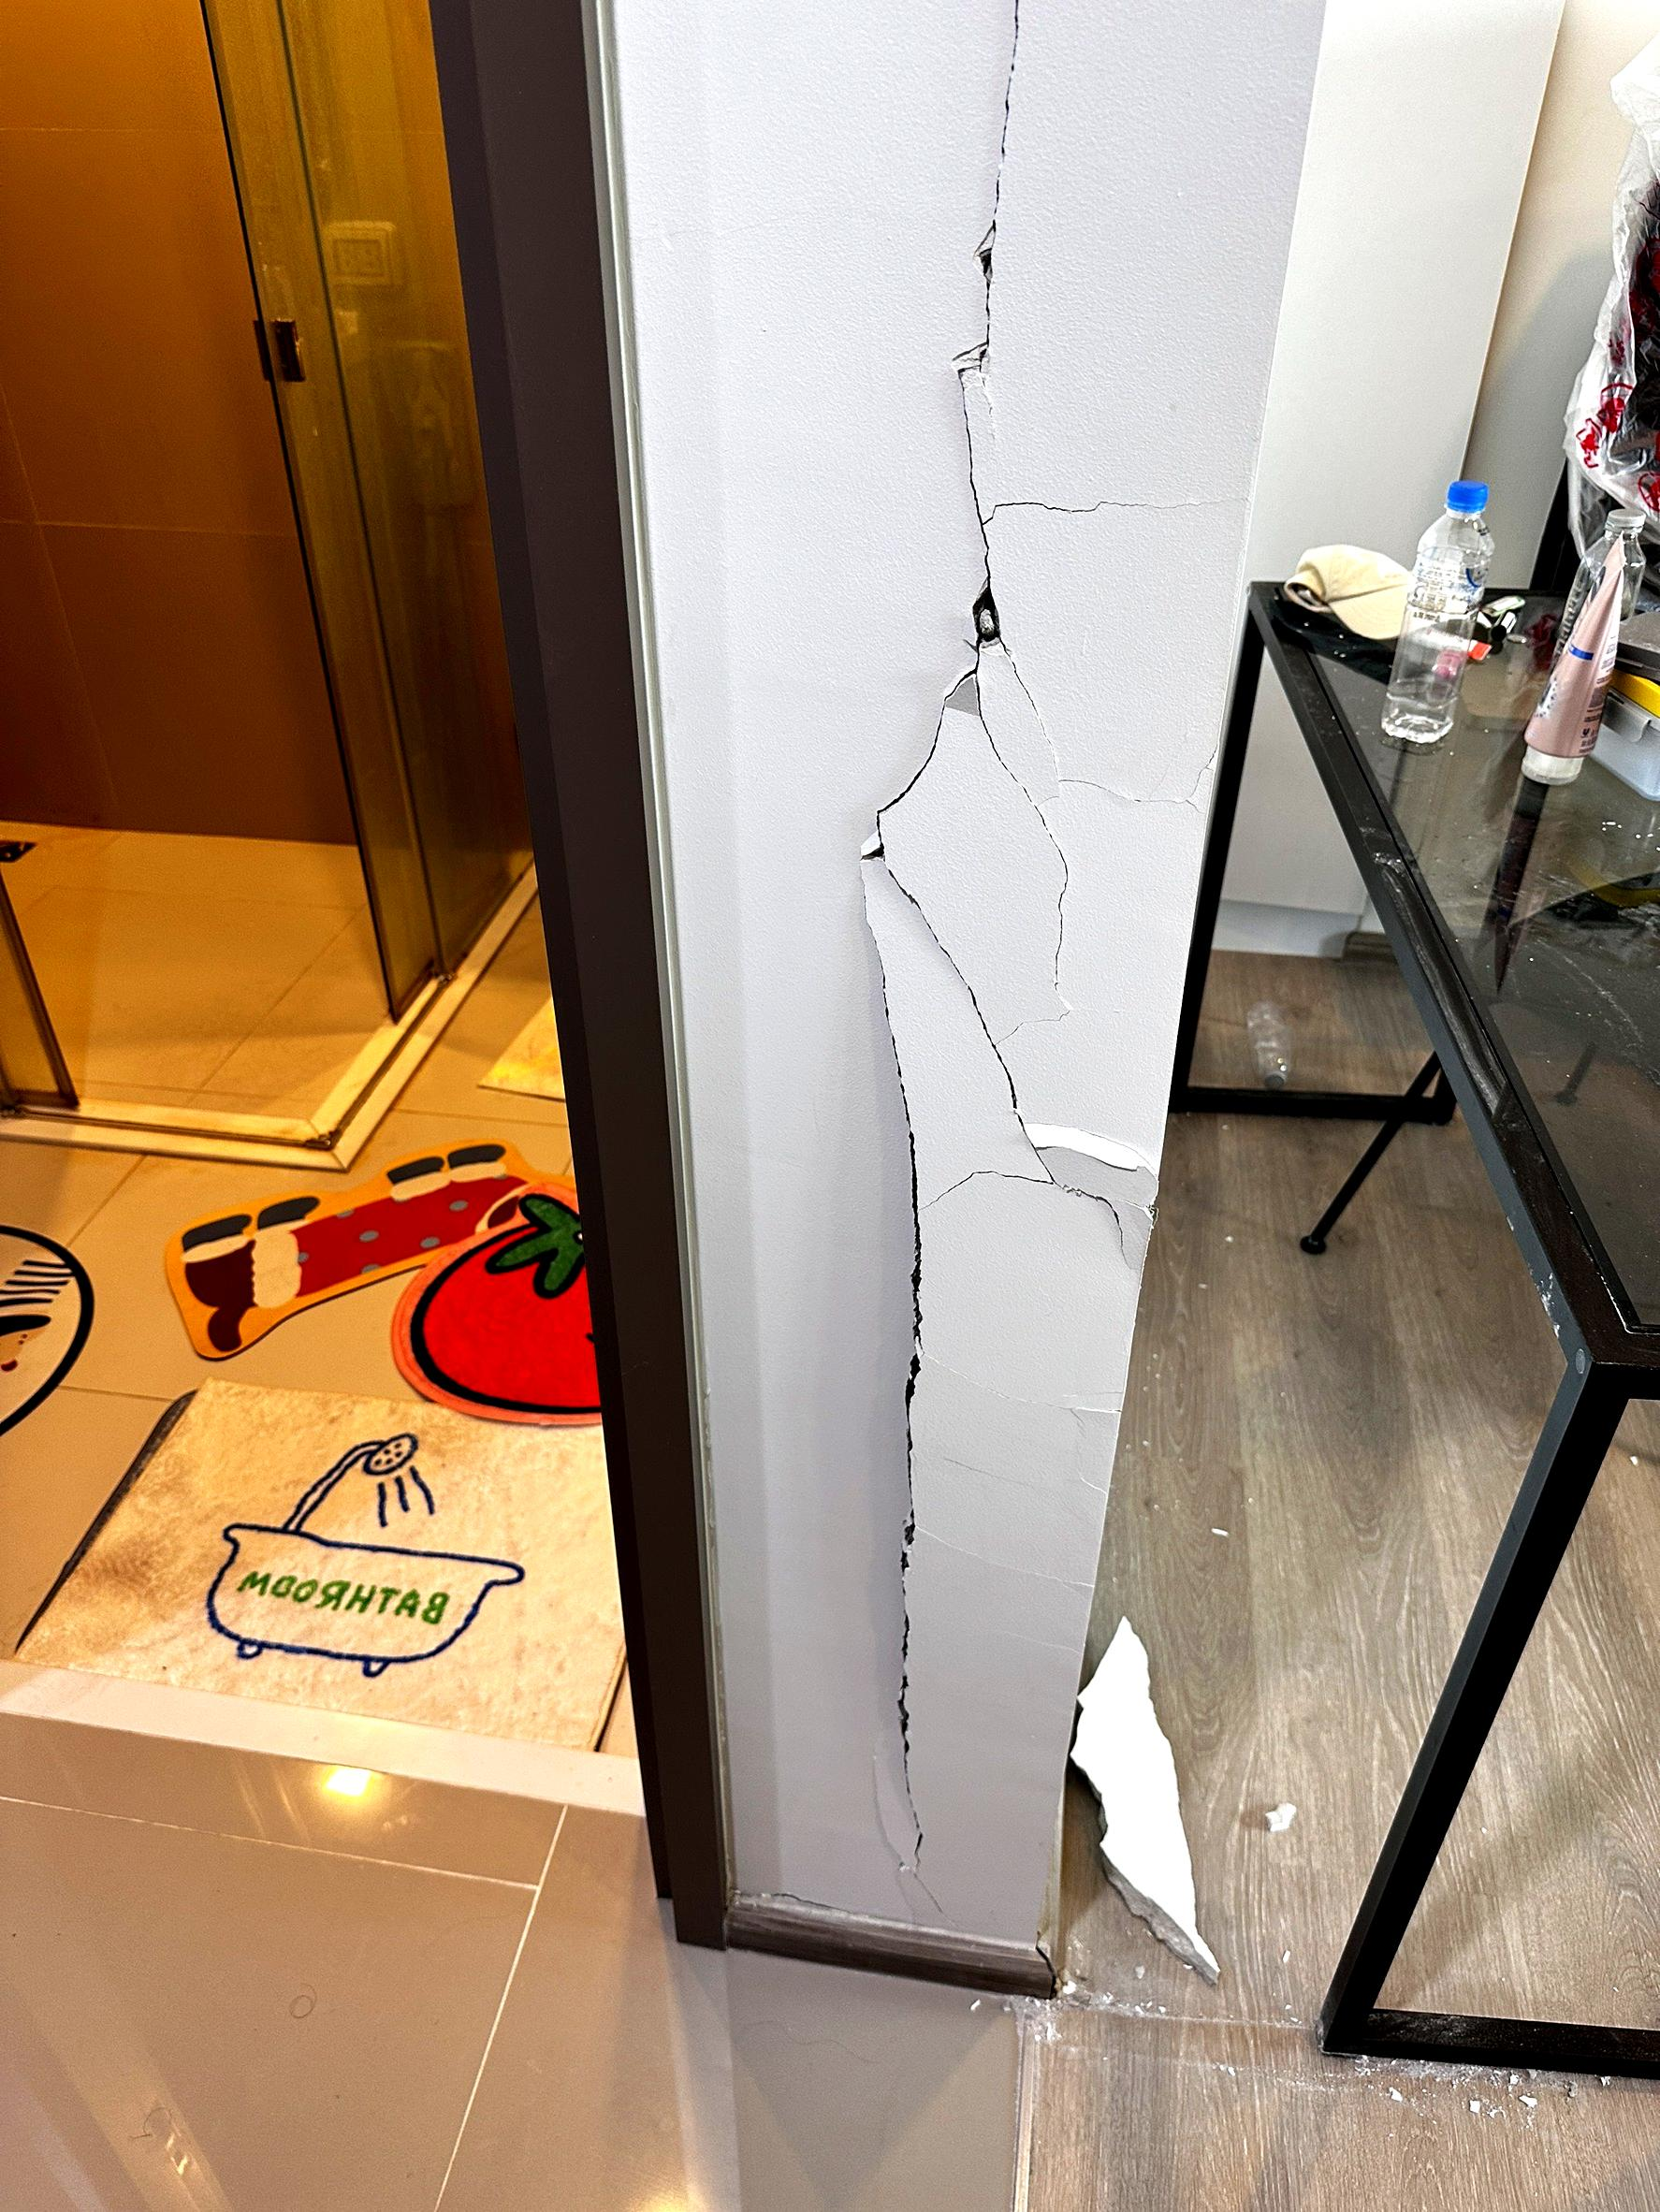High: (738, 3, 1062, 1952)
